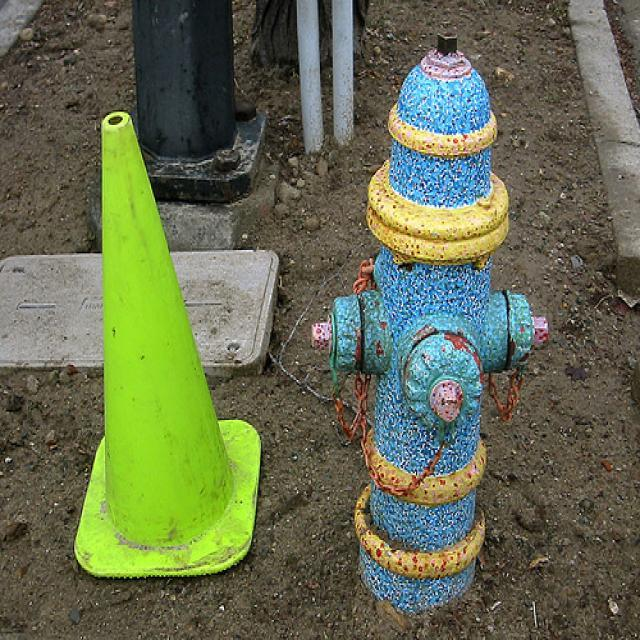fire_hydrant: (312, 34, 550, 608)
